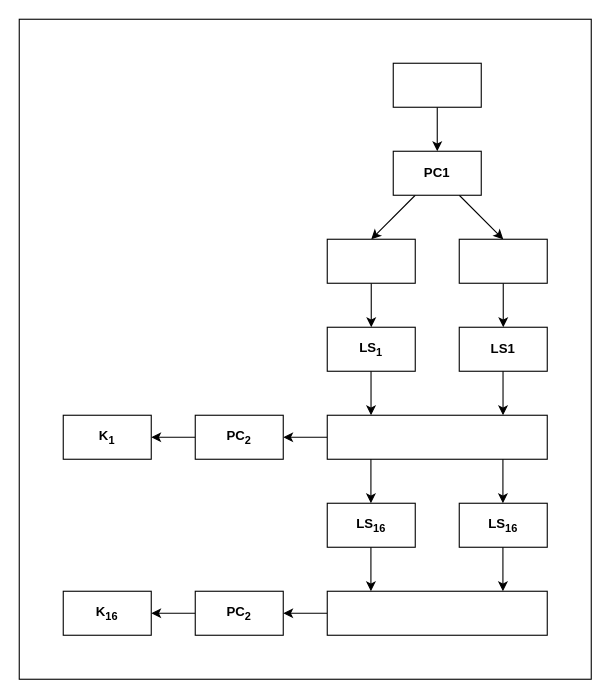
Some shapes in this 611 by 699 pixel diagram are drawn without their labels. Here are the shapes that lost their labels. From the top down, the centre of each, then its label:
the point at 436,84: key
the point at 370,260: C 0
the point at 502,260: D 0
the point at 436,436: C 1 D 1
the point at 436,612: C 16 D 16
